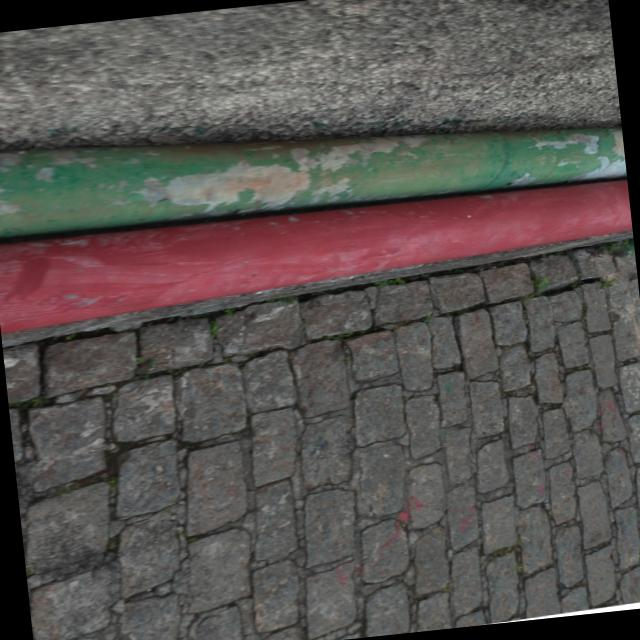gas: (0, 177, 637, 339), (0, 93, 626, 238)
